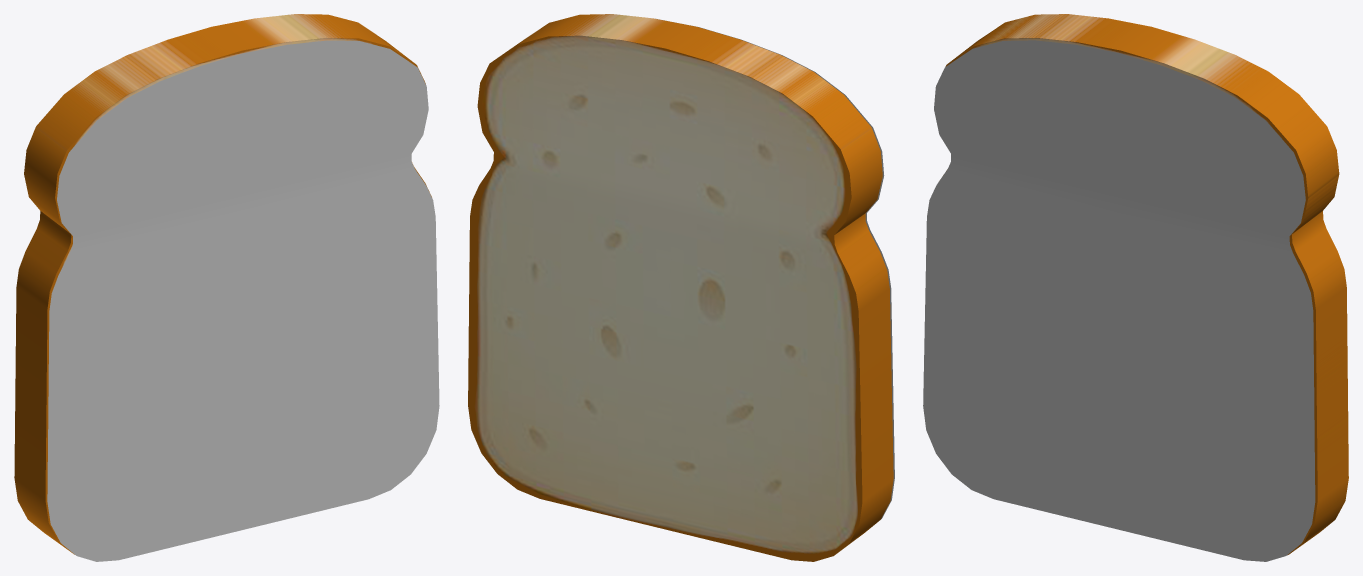
The model's file is bread.fbx.
3 renders of one model, left to right at view 1: azimuth 30°, elevation 25°; view 2: azimuth 150°, elevation 25°; view 3: azimuth 330°, elevation 25°, orthographic.
Visible parts, largest first — view 1: polySurface2, polySurface1; view 2: polySurface1, polySurface2; view 3: polySurface2, polySurface1.
Boxes of the visible parts, x1,y1,x2,y2 form: polySurface2: (47,40,439,561); polySurface1: (14,14,431,554); polySurface1: (468,14,893,561); polySurface2: (657,19,894,519); polySurface2: (923,40,1315,561); polySurface1: (945,14,1348,555).
Bounding box in the file's own units: 6.15 × 7.17 × 0.9264.
